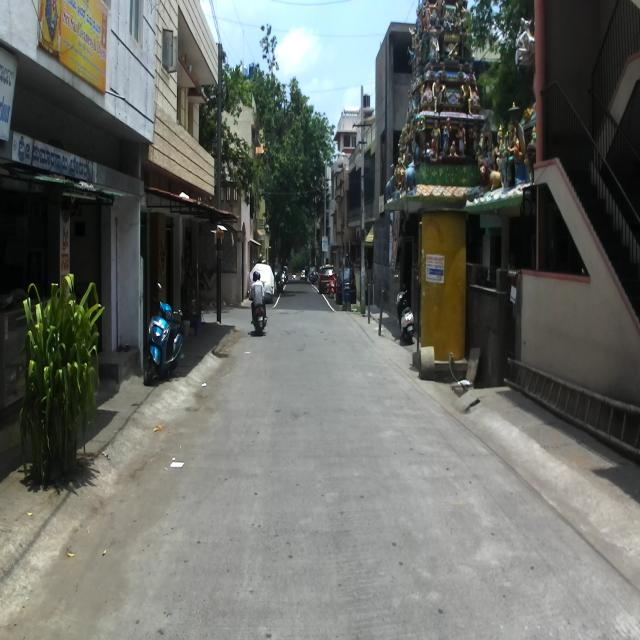motorcycle ahead at: (142, 277, 185, 384)
plant ahead at: (18, 265, 105, 477)
stones ahead at: (418, 344, 483, 393)
